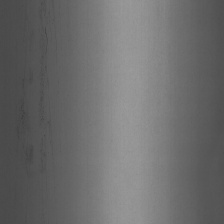inclusion: (36, 5, 57, 171), (16, 23, 33, 175)
